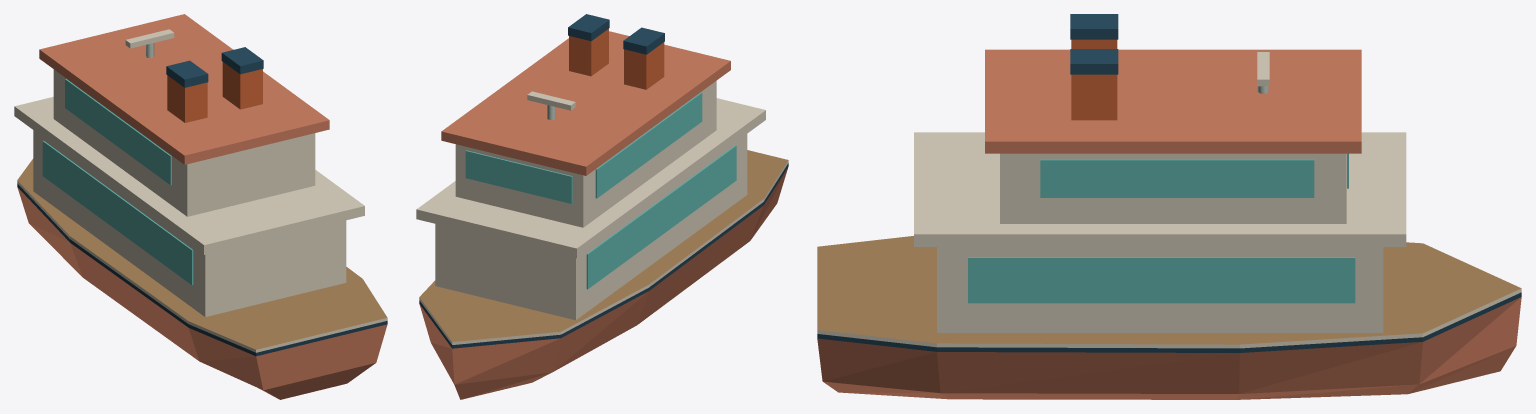
The model's file is ferry.glb.
The picture shows the model from 3 angles, left to right: view 1: azimuth 30°, elevation 25°; view 2: azimuth 150°, elevation 25°; view 3: azimuth 270°, elevation 25°; orthographic projection. The views are drawn at different scales.
Visible parts, largest first — view 1: static_painted, static_glass, static_dark; view 2: static_painted, static_glass, static_dark; view 3: static_painted, static_glass, static_dark.
Part boxes in pixels (left/top/right/bottom): static_painted: left=14, top=14, right=387, bottom=399; static_glass: left=42, top=79, right=193, bottom=284; static_dark: left=166, top=47, right=263, bottom=87; static_painted: left=416, top=29, right=788, bottom=399; static_glass: left=465, top=92, right=736, bottom=289; static_dark: left=568, top=14, right=664, bottom=54; static_painted: left=817, top=39, right=1521, bottom=399; static_glass: left=968, top=153, right=1355, bottom=303; static_dark: left=1070, top=14, right=1118, bottom=74.
Bounding box in the file's own units: 3.4 × 4.68 × 9.
